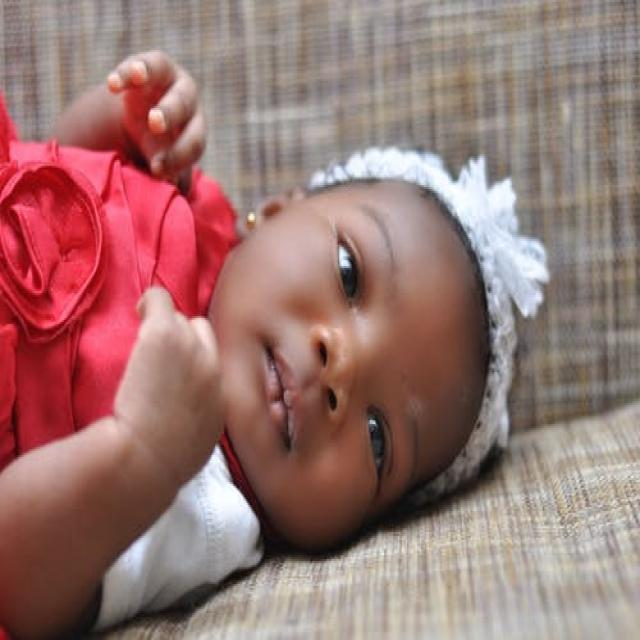non-dog: (3, 55, 557, 637)
